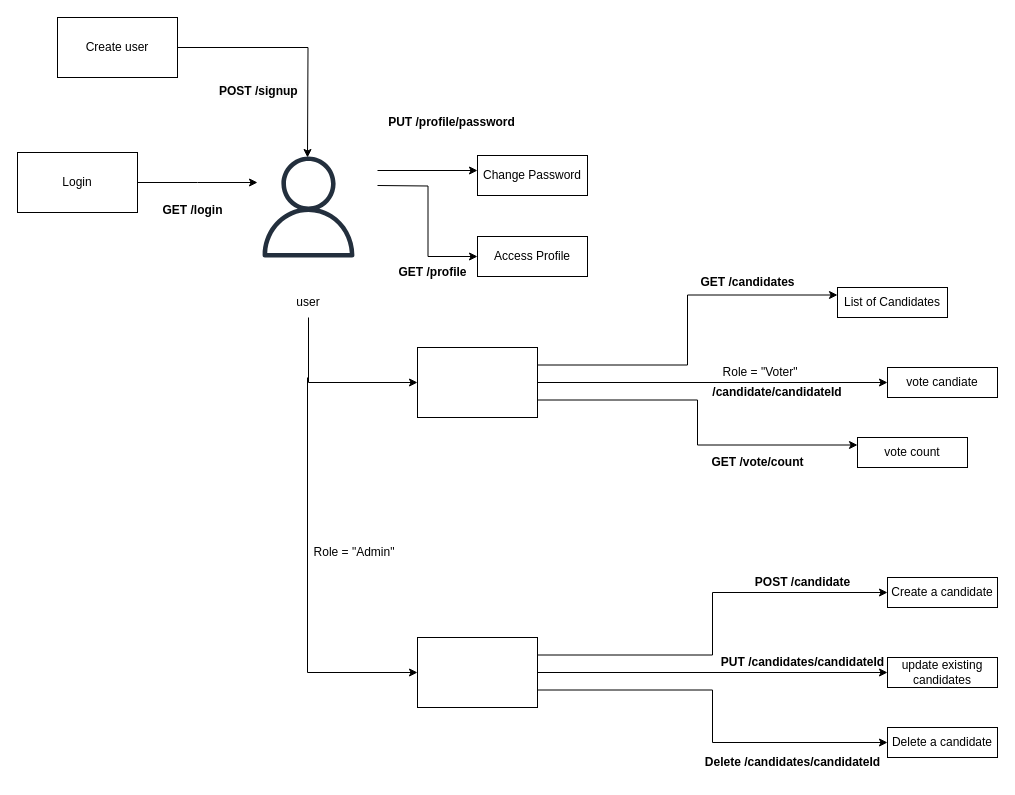
The diagram is 1015 pixels wide and 795 high, and some of its shapes have lost their labels. The box of each missing label's shape, as (x1, y1, x2, y2) in pixels:
Candidate Management: (416, 636, 538, 708)
Vote: (416, 346, 538, 418)
